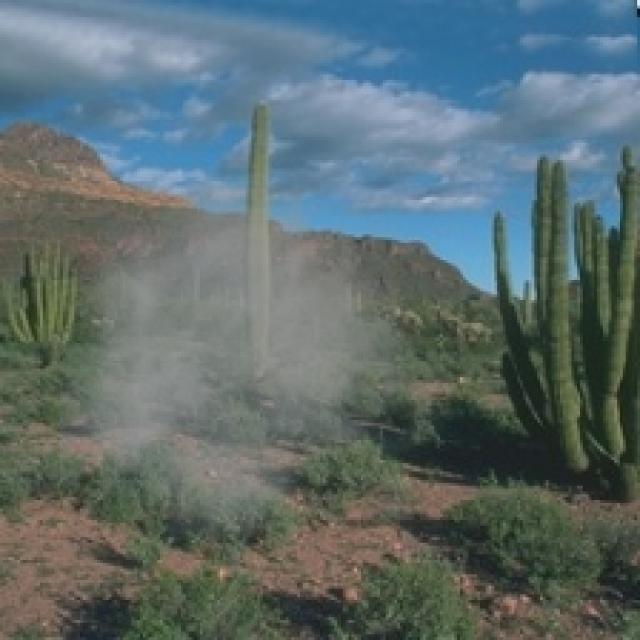smoke: (60, 146, 451, 560)
